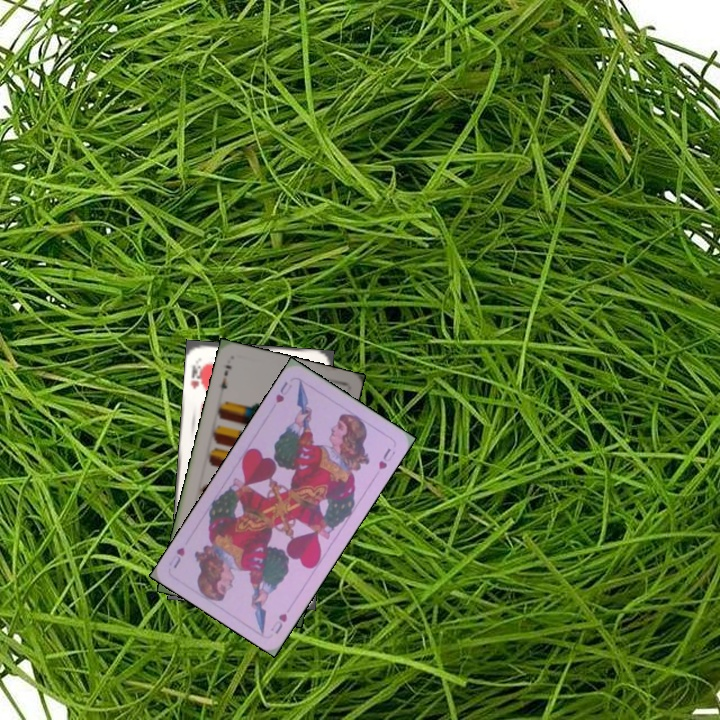E7: (217, 361, 234, 392)
HK: (186, 359, 207, 392)
HU: (266, 609, 290, 637), (271, 378, 295, 405)
